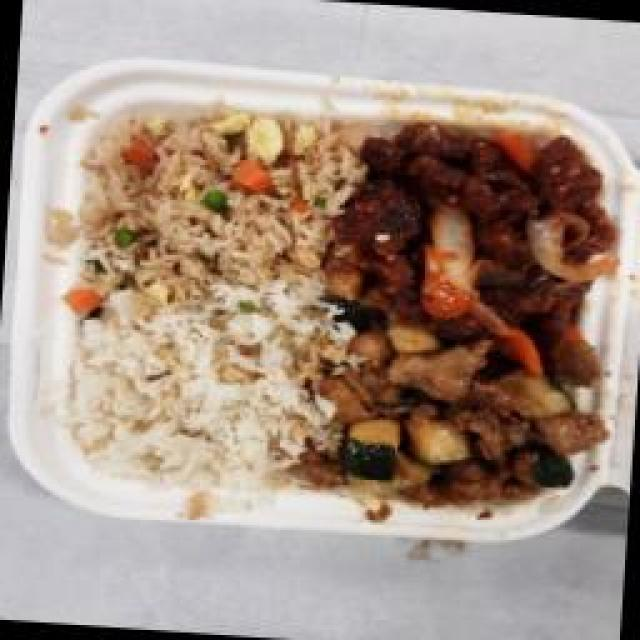Beijing Beef: (315, 113, 628, 356)
Fried Rice: (78, 95, 348, 335)
Kung Pao Chicken: (308, 305, 618, 518)
White Steamed Rice: (65, 313, 328, 498)
